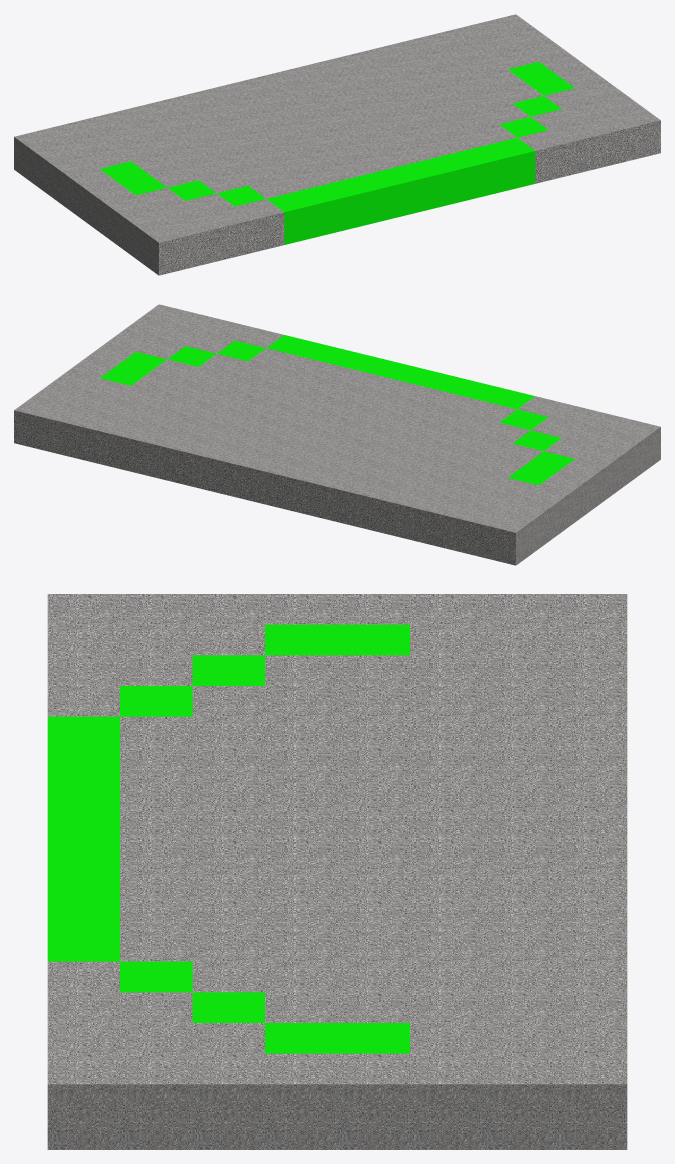
File: player_spawn.gltf
3 renders of one model, top to bottom at view 1: azimuth 30°, elevation 25°; view 2: azimuth 150°, elevation 25°; view 3: azimuth 270°, elevation 25°, orthographic. The views are drawn at different scales.
Parts seen in each view (by area): view 1: map; view 2: map; view 3: map.
Boxes of the visible parts, <box> form: map: <box>14,14,660,275</box>; map: <box>14,304,660,565</box>; map: <box>47,594,627,1149</box>.
Size of the model in its own units: 32 by 2 by 16.
2 materials, 2 textured.
